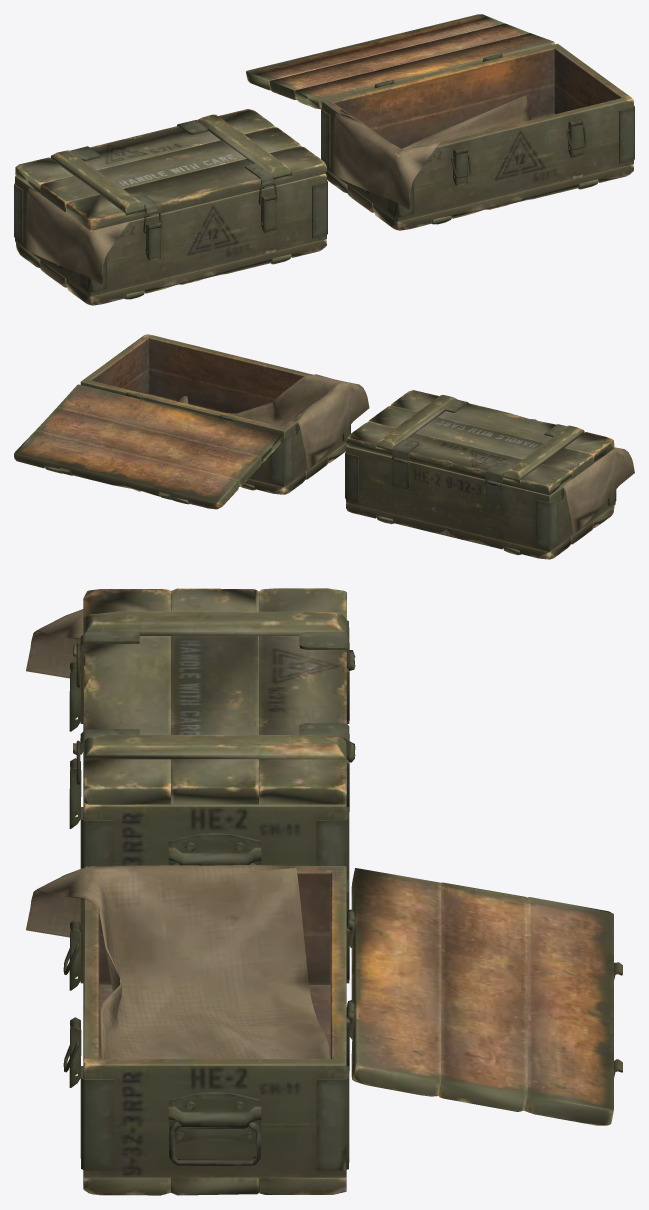
Rendered from old_military_crate.glb.
3 renders of one model, top to bottom at view 1: azimuth 30°, elevation 25°; view 2: azimuth 150°, elevation 25°; view 3: azimuth 270°, elevation 25°, orthographic. The views are drawn at different scales.
Parts seen in each view (by area): view 1: old_military_crate_b, old_military_crate_lid_a, old_military_crate_a, old_military_crate_lid_b, old_military_crate_cloth_b, old_military_crate_cloth_a, old_military_crate_latch_a, old_military_crate_latch_b; view 2: old_military_crate_lid_b, old_military_crate_lid_a, old_military_crate_a, old_military_crate_b, old_military_crate_cloth_b, old_military_crate_cloth_a; view 3: old_military_crate_lid_a, old_military_crate_lid_b, old_military_crate_b, old_military_crate_cloth_b, old_military_crate_a, old_military_crate_cloth_a, old_military_crate_latch_a, old_military_crate_latch_b.
Part boxes in pixels (x1,y1,x2,y2): old_military_crate_b: (321, 43, 634, 230); old_military_crate_lid_a: (15, 109, 326, 230); old_military_crate_a: (14, 173, 327, 305); old_military_crate_lid_b: (246, 14, 554, 109); old_military_crate_cloth_b: (333, 95, 531, 209); old_military_crate_cloth_a: (25, 187, 129, 284); old_military_crate_latch_a: (145, 194, 276, 261); old_military_crate_latch_b: (453, 119, 583, 186); old_military_crate_lid_b: (14, 384, 282, 509); old_military_crate_lid_a: (346, 390, 614, 495); old_military_crate_a: (345, 446, 616, 559); old_military_crate_b: (80, 334, 350, 494); old_military_crate_cloth_b: (176, 374, 369, 470); old_military_crate_cloth_a: (563, 447, 634, 535); old_military_crate_lid_a: (73, 588, 355, 805); old_military_crate_lid_b: (347, 868, 622, 1125); old_military_crate_b: (80, 866, 354, 1195); old_military_crate_cloth_b: (26, 865, 329, 1058); old_military_crate_a: (80, 620, 355, 886); old_military_crate_cloth_a: (26, 609, 83, 678); old_military_crate_latch_a: (69, 661, 81, 828); old_military_crate_latch_b: (69, 920, 81, 1087).
Bounding box in the file's own units: 1.81 × 0.3009 × 0.9743.
Materials: 1 (1 with a texture image).
